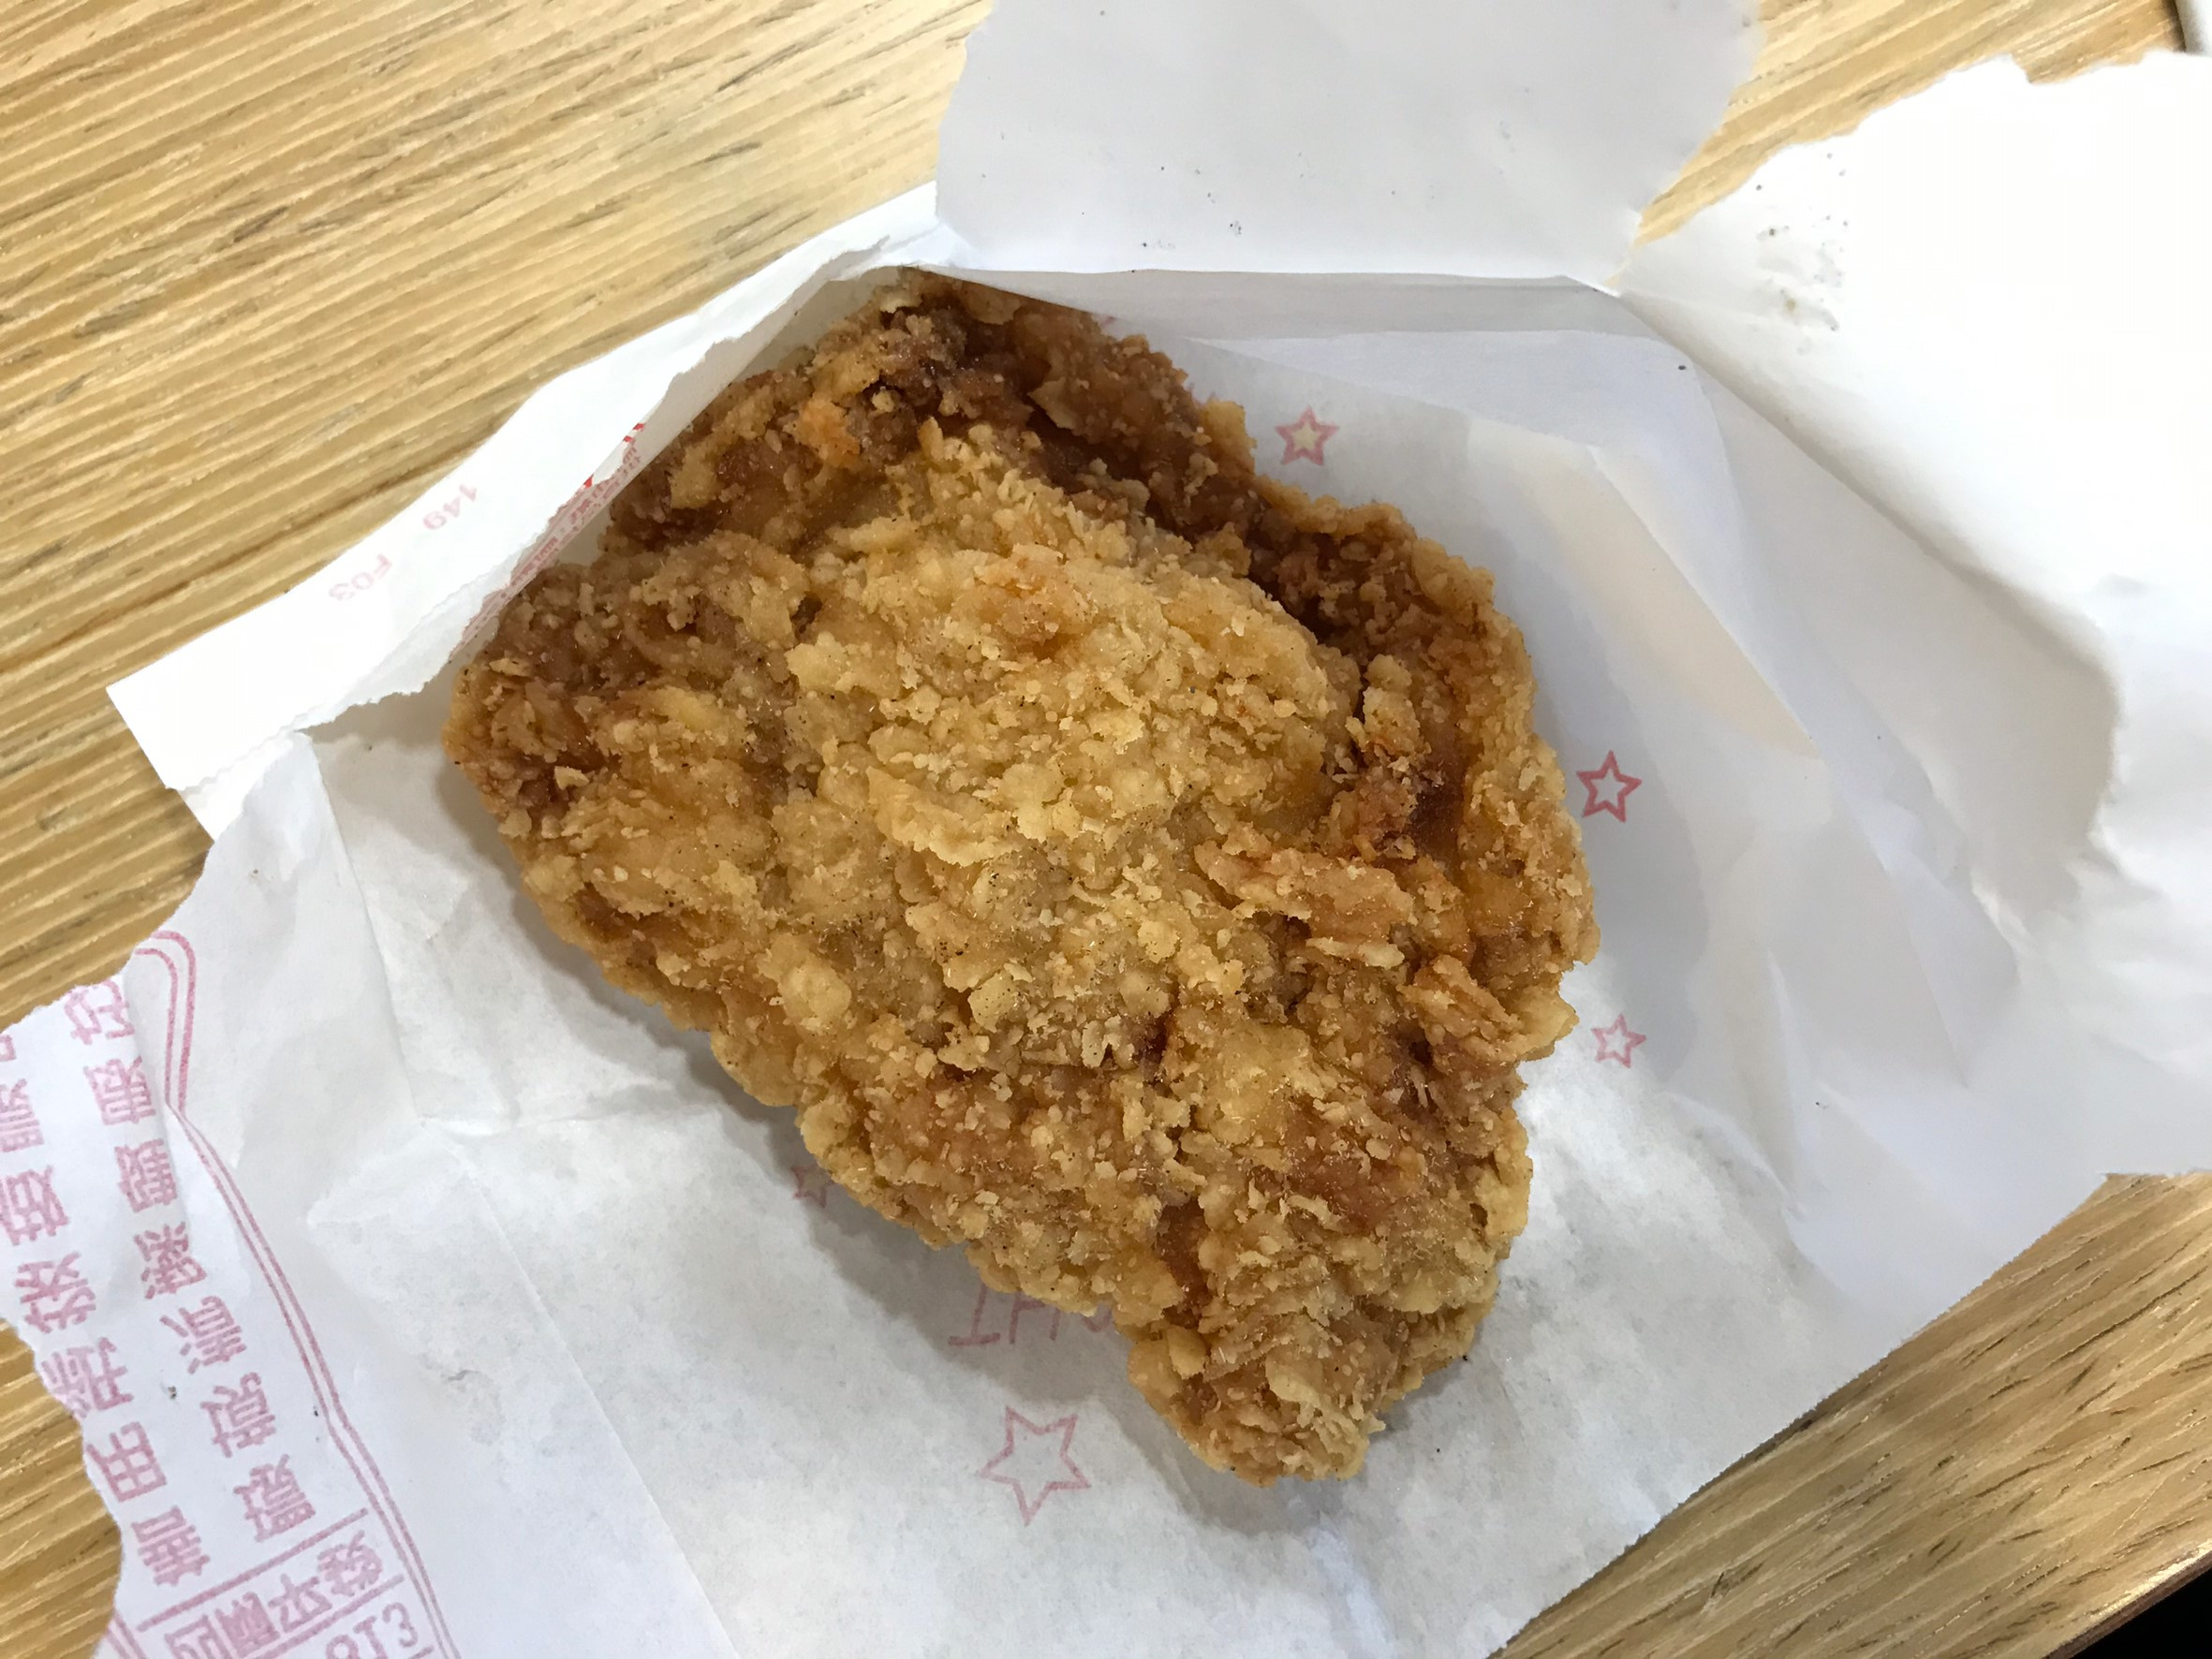fried_chicken: (448, 270, 1595, 1474)
